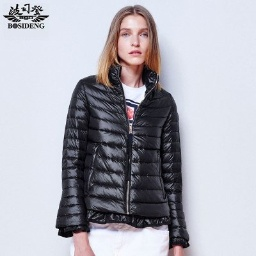face: (98, 5, 162, 85)
